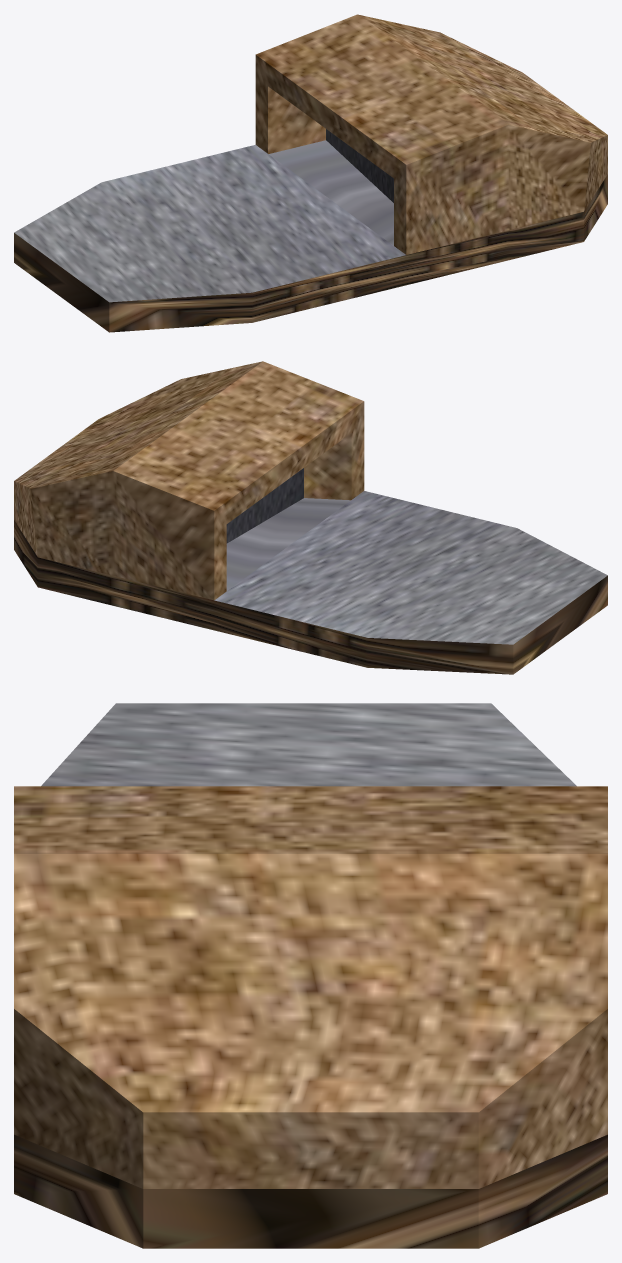
Rendered from slipper.FBX.
3 renders of one model, top to bottom at view 1: azimuth 30°, elevation 25°; view 2: azimuth 150°, elevation 25°; view 3: azimuth 270°, elevation 25°, orthographic. The views are drawn at different scales.
Visible parts, largest first — view 1: Object001, Box001, Object003, Object002; view 2: Object001, Box001, Object003, Object002; view 3: Object001, Box001, Object003.
Part boxes in pixels (x1,y1,x2,y2): Object001: (255,14,607,254); Box001: (14,140,405,302); Object003: (14,174,607,332); Object002: (326,129,393,202); Object001: (14,361,364,600); Box001: (214,491,607,644); Object003: (14,520,607,674); Object002: (226,468,303,543); Object001: (14,786,607,1188); Box001: (41,703,576,786); Object003: (14,1134,607,1248).
Bounding box in the file's own units: 23.77 × 6.09 × 12.28.
4 materials, 4 textured.
